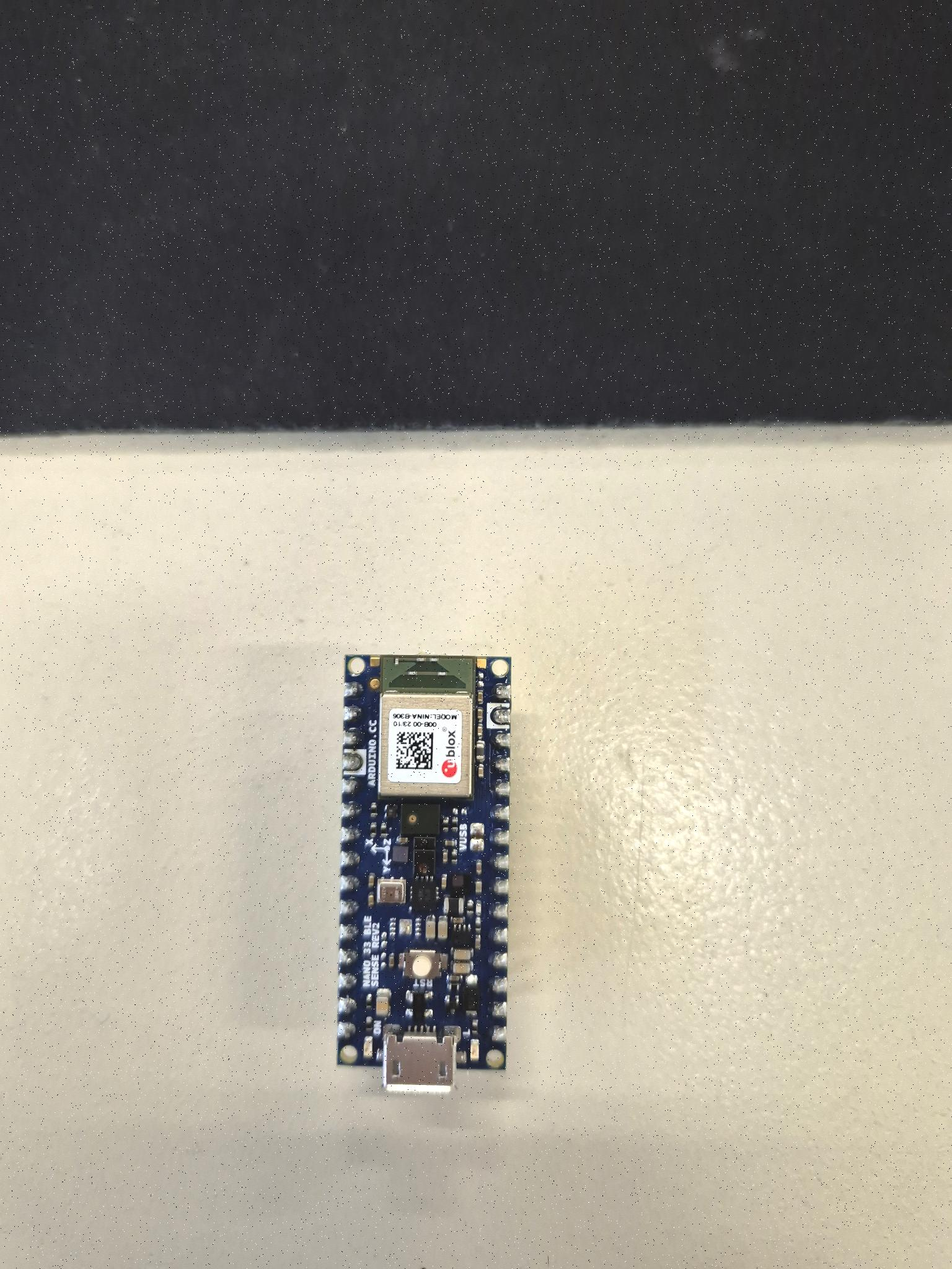arduino-nano-ble-sense: (338, 655, 510, 1093)
